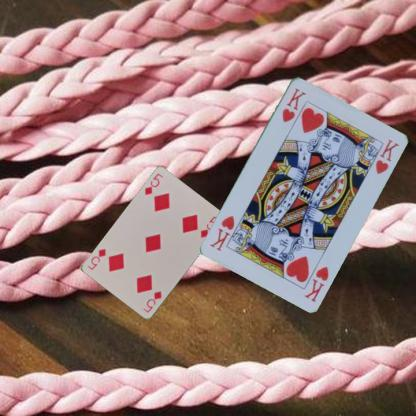5d: (140, 288, 163, 314), (142, 171, 164, 196)
Kh: (301, 263, 330, 303), (279, 85, 307, 124)
